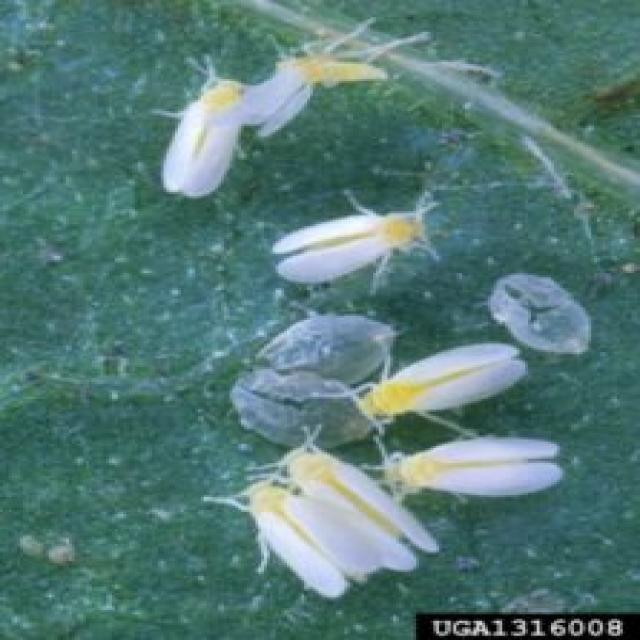Whitefly: (151, 5, 445, 206), (196, 423, 474, 620), (316, 331, 555, 443), (258, 174, 457, 306), (373, 427, 584, 505)
